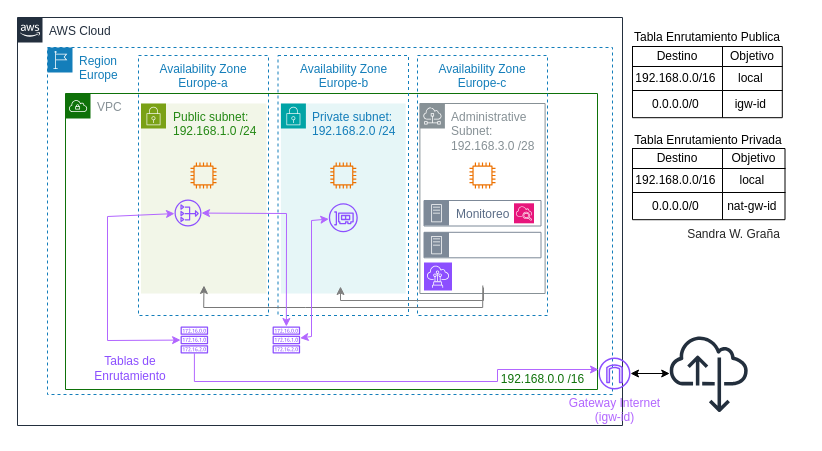
This 822x451 diagram has some shape labels left out. Here are the shapes that lost their labels. From the top down, the centre of each, then its label:
[187,212]: NAT Gateway (nat-gw-id)
[342,217]: EMI
[482,244]: Administración
[194,339]: Publica
[286,339]: Privada
[708,373]: Internet
